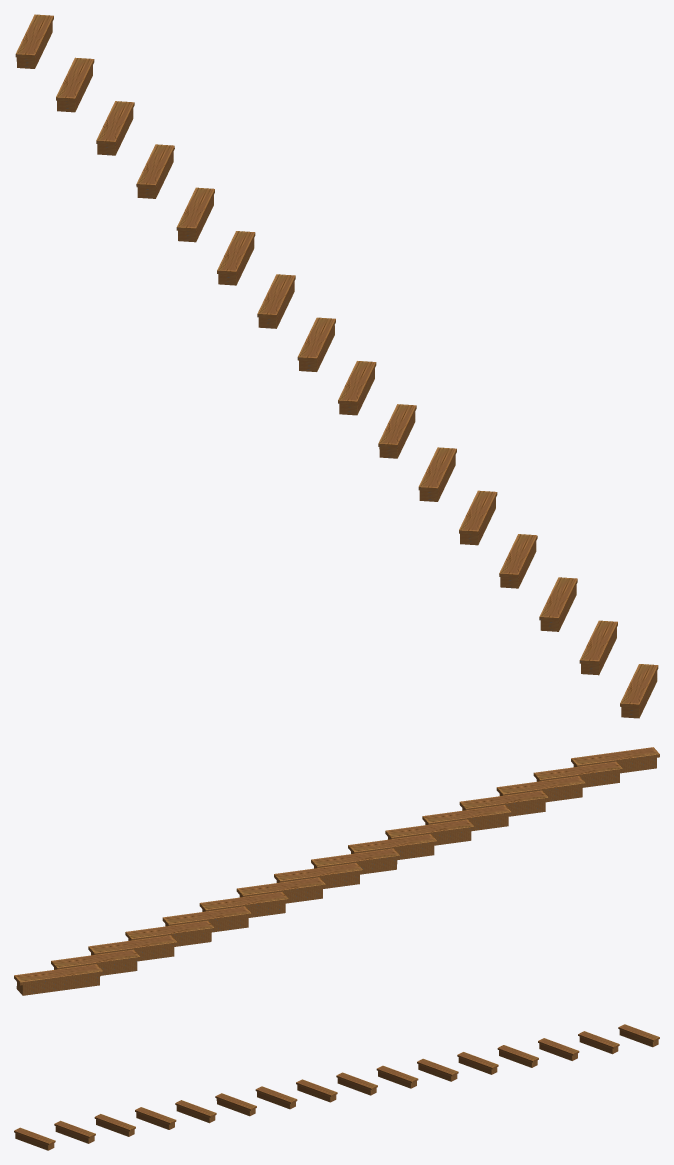
3 views of the same model, one above another, from view 1: azimuth 30°, elevation 25°; view 2: azimuth 150°, elevation 25°; view 3: azimuth 270°, elevation 25° (orthographic). The views are drawn at different scales.
Parts seen in each view (by area): view 1: Cube.1901; view 2: Cube.1901; view 3: Cube.1901.
Boxes of the visible parts, <box> form: Cube.1901: <box>15,14,658,718</box>; Cube.1901: <box>14,747,659,995</box>; Cube.1901: <box>14,1024,659,1150</box>.
Size of the model in its own units: 183 by 575 by 3025.
Materials: 1 (1 with a texture image).
